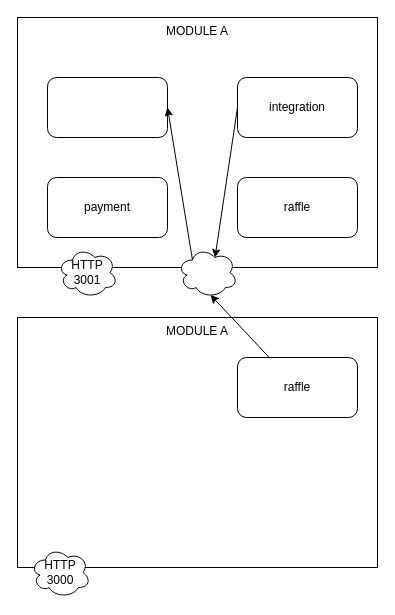
Image size: 395x615. Some labels were removed from this diagram. Each missing label, with the box of its shape:
customer: (46, 76, 168, 138)
TCP 3002: (176, 246, 238, 298)
